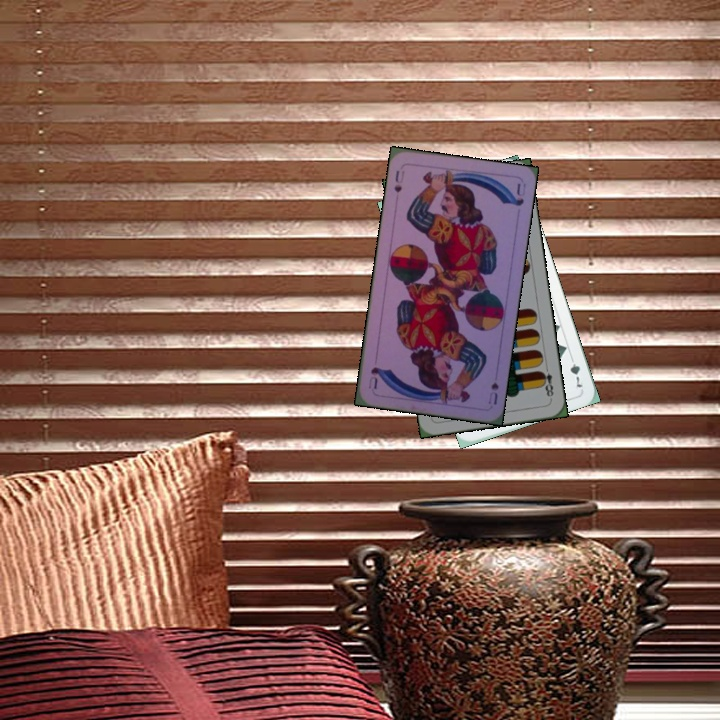E8: (536, 362, 556, 402)
G7: (566, 351, 587, 390)
SU: (484, 378, 501, 407), (390, 166, 407, 195)
